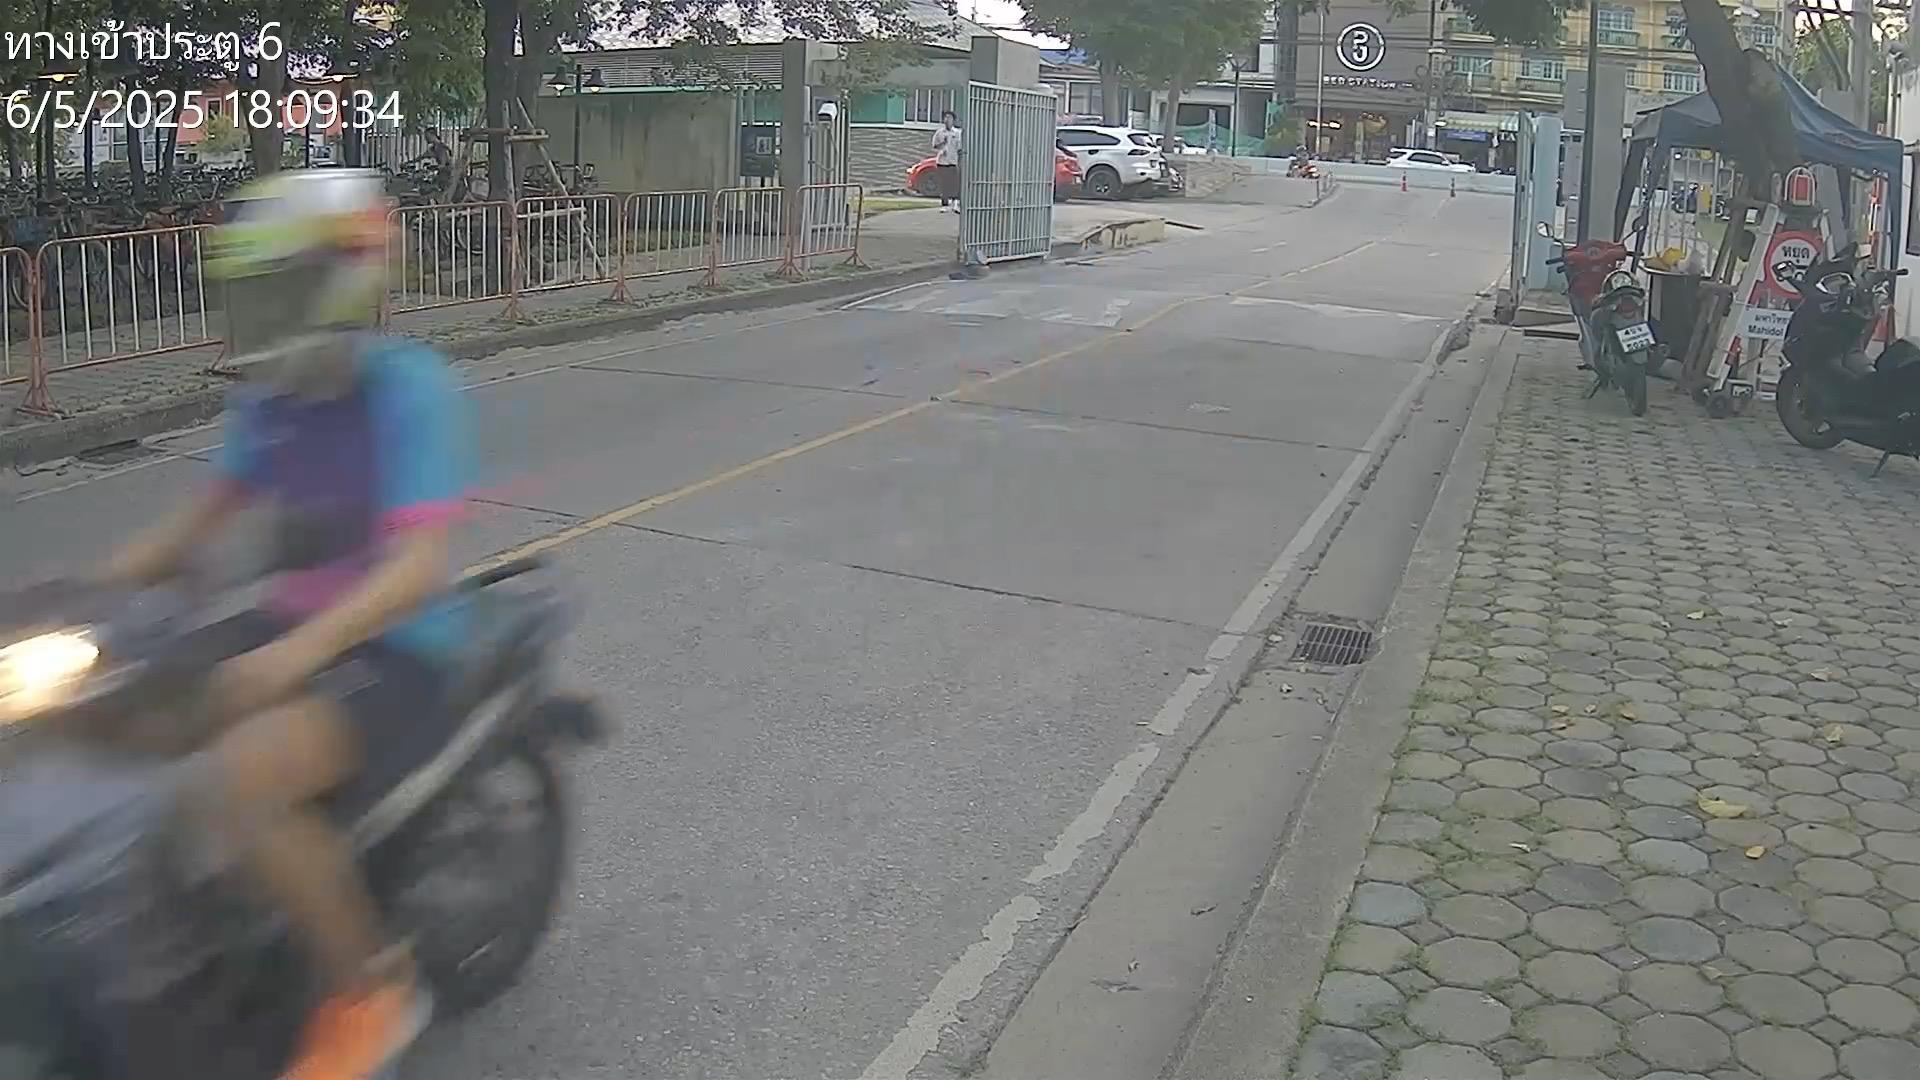With-Helmet: (204, 164, 400, 378)
